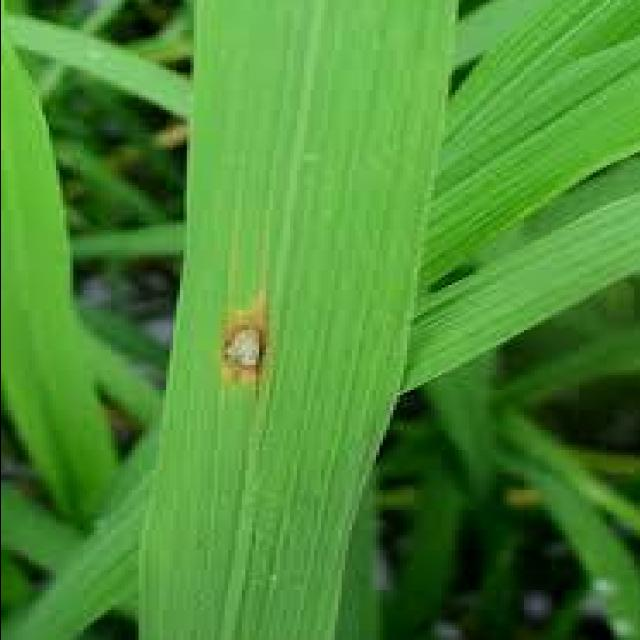Leaf_Blast: (179, 298, 275, 400)
